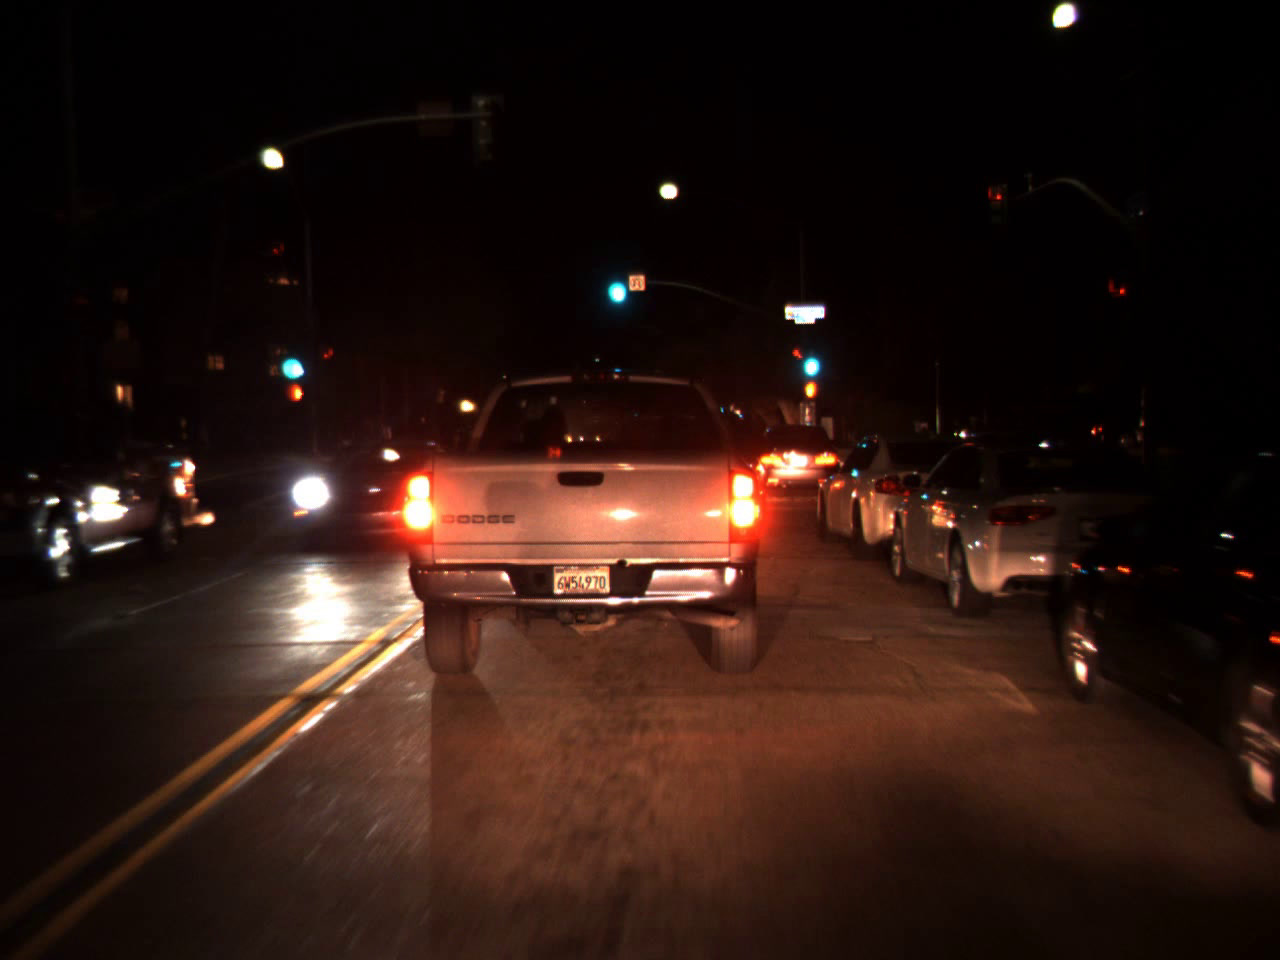go: (275, 333, 305, 387), (600, 257, 630, 311), (798, 335, 823, 383)
